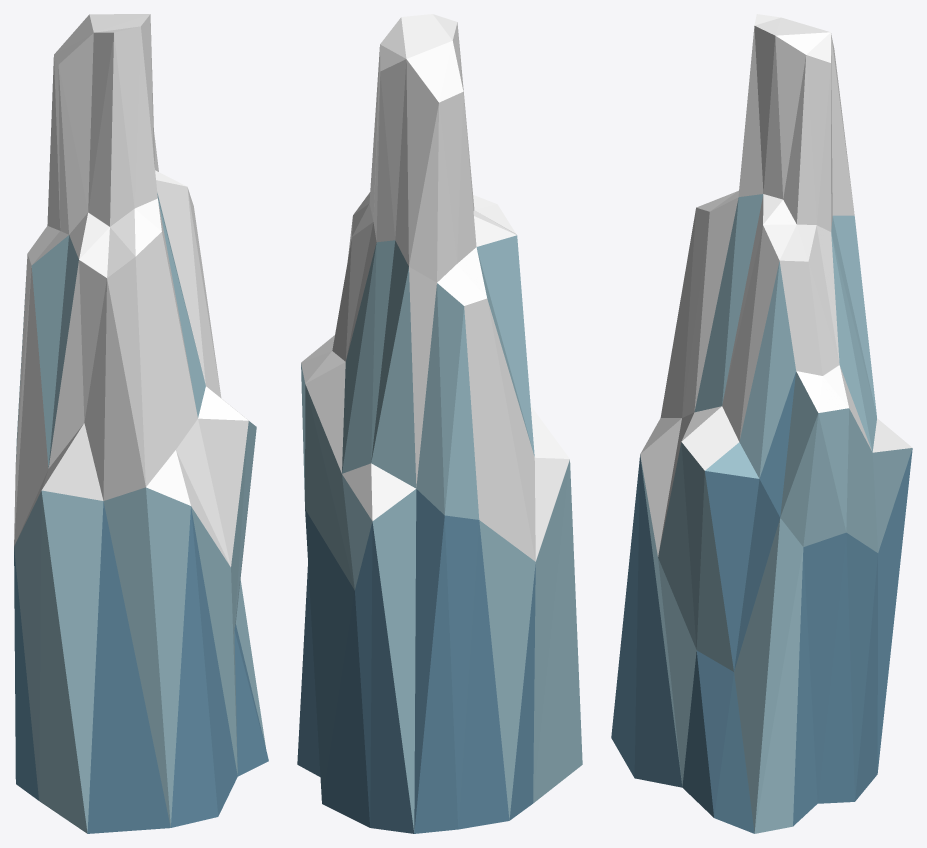
File: terrainStonePillarMedium1.fbx
The picture shows the model from 3 angles, left to right: view 1: azimuth 30°, elevation 25°; view 2: azimuth 150°, elevation 25°; view 3: azimuth 270°, elevation 25°; orthographic projection. The views are drawn at different scales.
Visible parts, largest first — view 1: pillar; view 2: pillar; view 3: pillar.
Boxes of the visible parts, bbox=[...] form: pillar: bbox=[14, 14, 268, 833]; pillar: bbox=[297, 14, 582, 833]; pillar: bbox=[611, 14, 912, 833].
Bounding box in the file's own units: 684 × 2033 × 742.
Materials: 1 (1 with a texture image).
